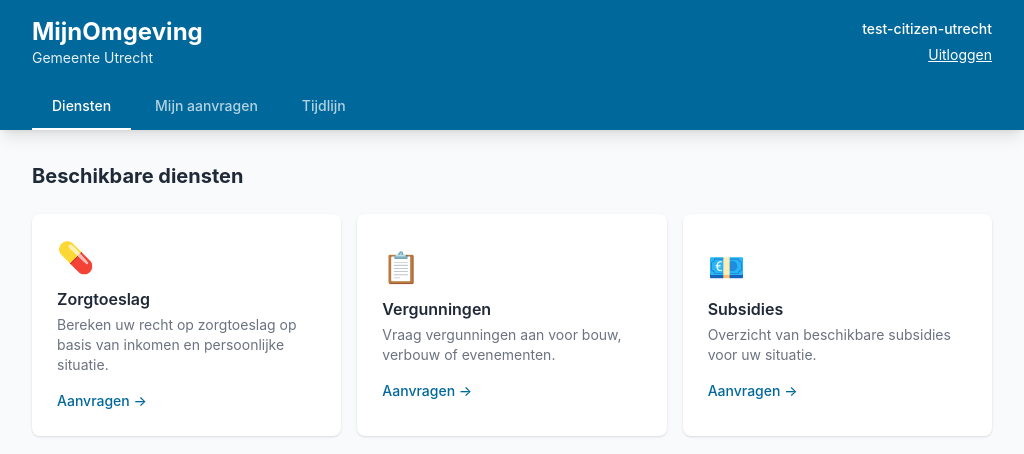
Dashboard › Mijn aanvragen shows an empty state when there are no applications
The width and height of the screenshot is (1024, 454).
Click the button "Mijn aanvragen" at (206, 107), box x1=135 y1=84 x2=278 y2=130
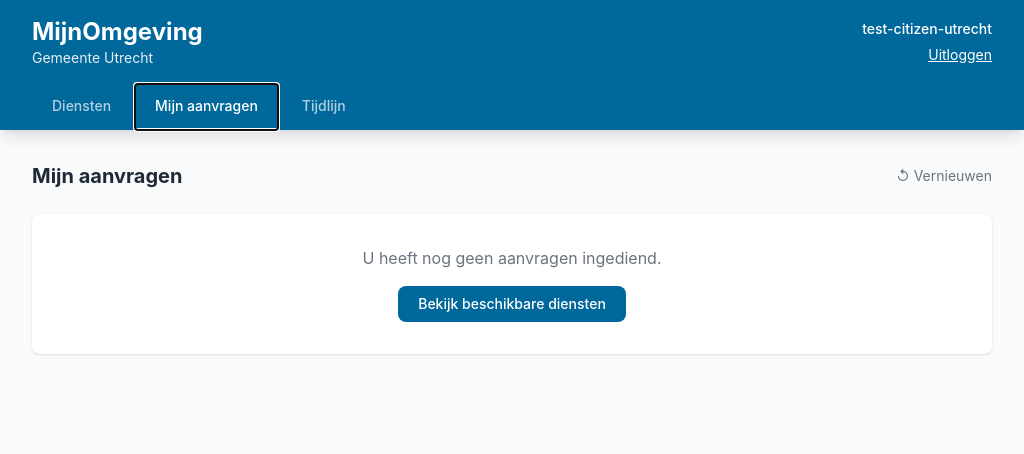
Result: the text "U heeft nog geen aanvragen ingediend." is shown at x1=362 y1=248 x2=662 y2=268
